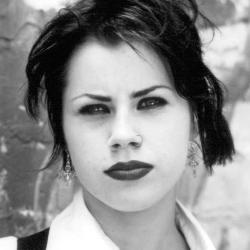face: (16, 3, 243, 222)
